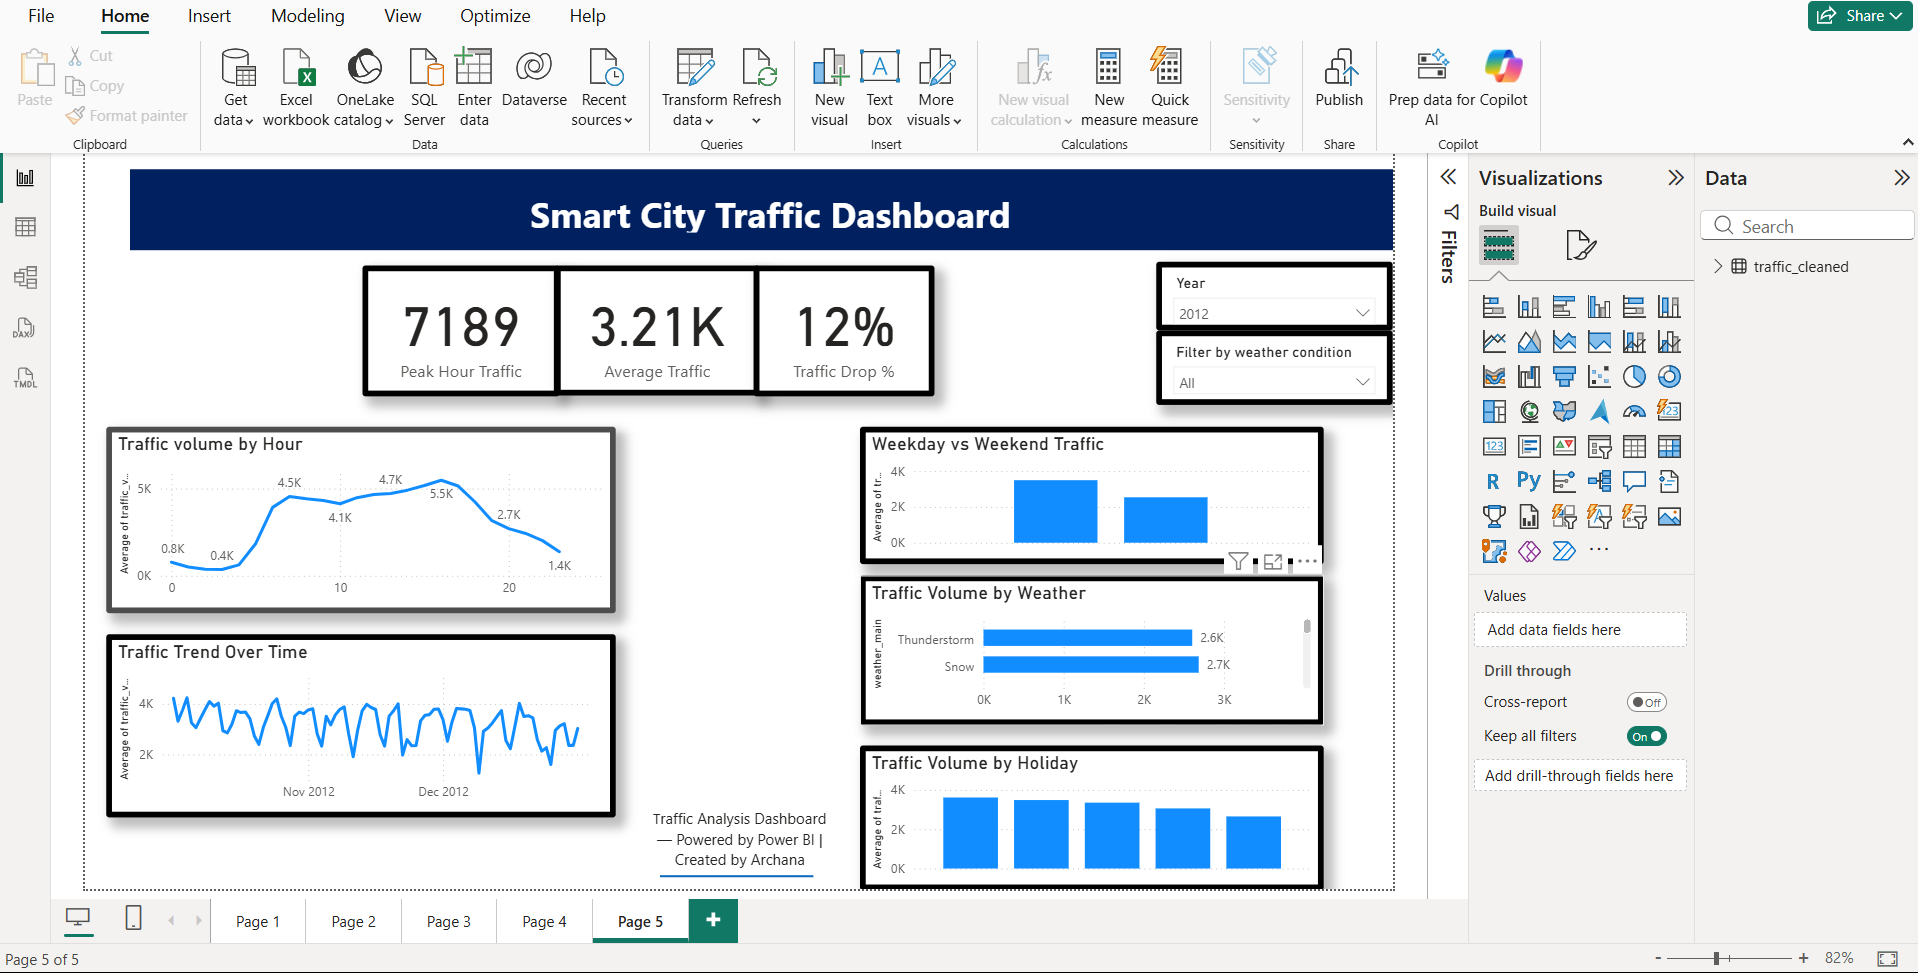

This screenshot's page, from the dashboard's own definition file:
{"tool":"powerbi","page":{"name":"Page 5","canvas":[1280,720],"ordinal":4},"visuals":[{"type":"shape","box":[43.7,16.2,1237.1,79.3],"z":0},{"type":"card","fields":{"Values":["traffic_cleaned.Peak Hour Traffic"]},"box":[272,110.1,192.7,127.9],"z":1000},{"type":"card","fields":{"Values":["traffic_cleaned.Average Traffic"]},"box":[459.4,110.3,200,127.6],"z":2000},{"type":"card","fields":{"Values":["traffic_cleaned.Traffic Drop %"]},"box":[654.2,110.1,176.5,127.9],"z":3000},{"type":"lineChart","title":"Traffic volume by Hour","fields":{"Category":["traffic_cleaned.Hour"],"Y":["Avg(traffic_cleaned.traffic_volume)"]},"box":[20.7,267.2,498.3,182.8],"z":4000},{"type":"clusteredColumnChart","title":"Weekday vs Weekend Traffic","fields":{"Category":["traffic_cleaned.Day_Type"],"Y":["Avg(traffic_cleaned.traffic_volume)"]},"box":[758.6,267.2,453.4,134.5],"z":5000},{"type":"clusteredBarChart","title":"Traffic Volume by Weather","fields":{"Y":["Avg(traffic_cleaned.traffic_volume)"],"Category":["traffic_cleaned.weather_main"]},"box":[758.6,413.8,453.4,146.6],"z":6000},{"type":"clusteredColumnChart","title":"Traffic Volume by Holiday","fields":{"Y":["Avg(traffic_cleaned.traffic_volume)"],"Category":["traffic_cleaned.holiday"]},"box":[758.6,579.3,453.4,141.4],"z":7000},{"type":"lineChart","title":"Traffic Trend Over Time","fields":{"Y":["Avg(traffic_cleaned.traffic_volume)"],"Category":["traffic_cleaned.Date.Variation.Date Hierarchy.Year","traffic_cleaned.Date.Variation.Date Hierarchy.Quarter","traffic_cleaned.Date.Variation.Date Hierarchy.Month","traffic_cleaned.Date.Variation.Date Hierarchy.Day"]},"box":[20.7,470.7,498.3,179.3],"z":8000},{"type":"slicer","fields":{"Values":["traffic_cleaned.Year"]},"box":[1048.3,106.9,231,67.2],"z":9000},{"type":"slicer","fields":{"Values":["traffic_cleaned.weather_main"]},"box":[1048.3,174.1,231,72.4],"z":10000},{"type":"textbox","title":"Smart City Traffic Dashboard","box":[403.2,35.6,534.3,42.1],"z":11000},{"type":"textbox","box":[546.6,636.2,187.9,84.5],"z":12000},{"type":"shape","box":[562.1,694.8,150,25.9],"z":13000}]}

Visuals, with their boxes on the page's 1280x720 design canvas (x1, y1, x2, y2). These are canvas units, not pixel positions in the 1918x973 screenshot, which may show the page scaled, cropped or inside an application window:
shape: <bbox>44, 16, 1281, 96</bbox>
card - traffic_cleaned.Peak Hour Traffic: <bbox>272, 110, 465, 238</bbox>
card - traffic_cleaned.Average Traffic: <bbox>459, 110, 659, 238</bbox>
card - traffic_cleaned.Traffic Drop %: <bbox>654, 110, 831, 238</bbox>
"Traffic volume by Hour" lineChart: <bbox>21, 267, 519, 450</bbox>
"Weekday vs Weekend Traffic" clusteredColumnChart: <bbox>759, 267, 1212, 402</bbox>
"Traffic Volume by Weather" clusteredBarChart: <bbox>759, 414, 1212, 560</bbox>
"Traffic Volume by Holiday" clusteredColumnChart: <bbox>759, 579, 1212, 721</bbox>
"Traffic Trend Over Time" lineChart: <bbox>21, 471, 519, 650</bbox>
slicer - traffic_cleaned.Year: <bbox>1048, 107, 1279, 174</bbox>
slicer - traffic_cleaned.weather_main: <bbox>1048, 174, 1279, 246</bbox>
"Smart City Traffic Dashboard" textbox: <bbox>403, 36, 938, 78</bbox>
textbox: <bbox>547, 636, 734, 721</bbox>
shape: <bbox>562, 695, 712, 721</bbox>
